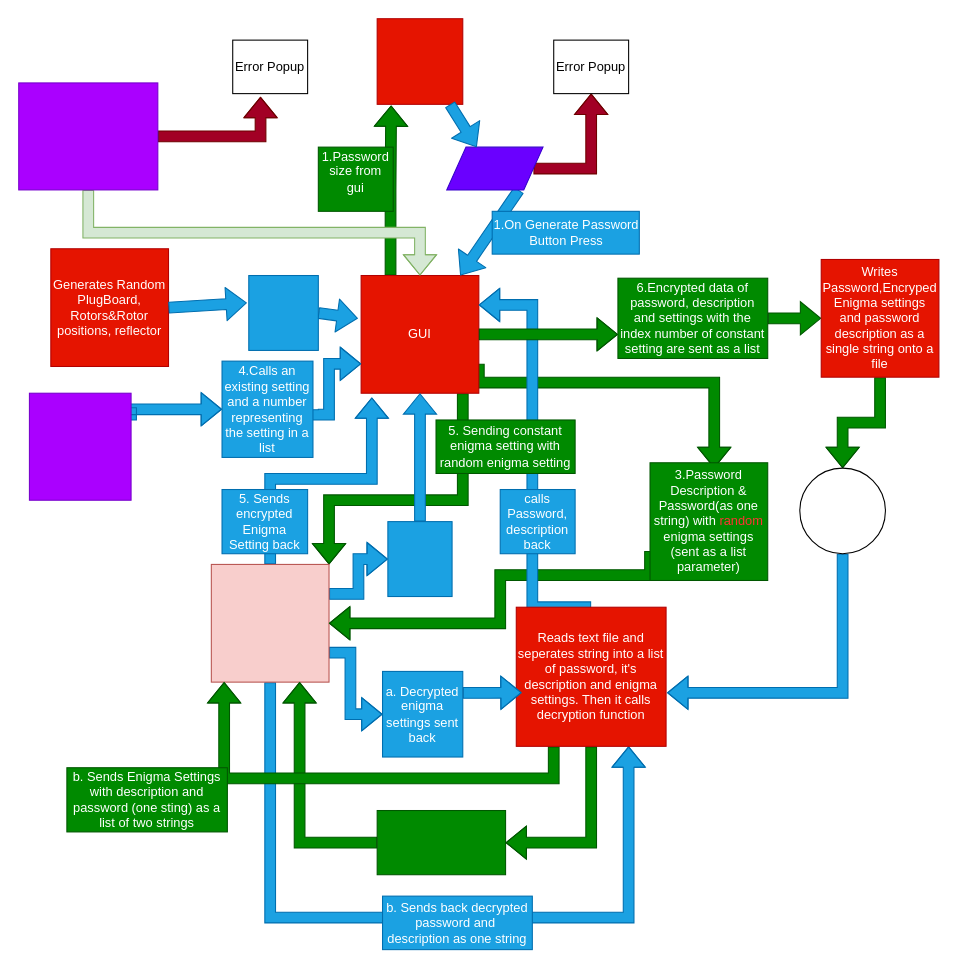
This 958x968 diagram has some shape labels left out. The centre of each missing label's shape, as x and y in pixels:
"2.Calling Enigma Settings as a list" belongs at pixel 283 312.
"3.Encrpted password description and password" belongs at pixel 419 559.
"a. Sends Encrypted settings and index number" belongs at pixel 441 842.
"Constant Enigma Settings as lists" belongs at pixel 79 446.
"Encrypts/Decrypts inputs using Enigma Settings" belongs at pixel 269 622.
"Login Screen" belongs at pixel 88 136.
"Password Generator" belongs at pixel 419 61.
"password, description and setting txt file" belongs at pixel 842 510.
"PasswordUI input check" belongs at pixel 494 168.
